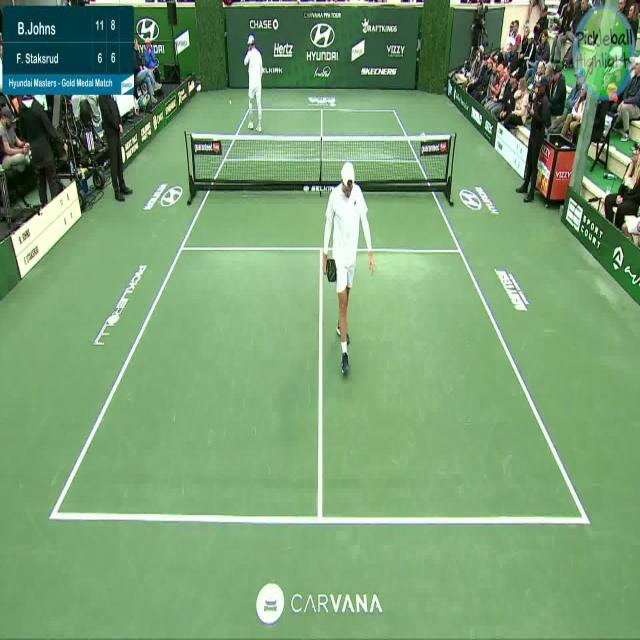Court: (51, 112, 591, 522)
ball: (226, 96, 234, 108)
